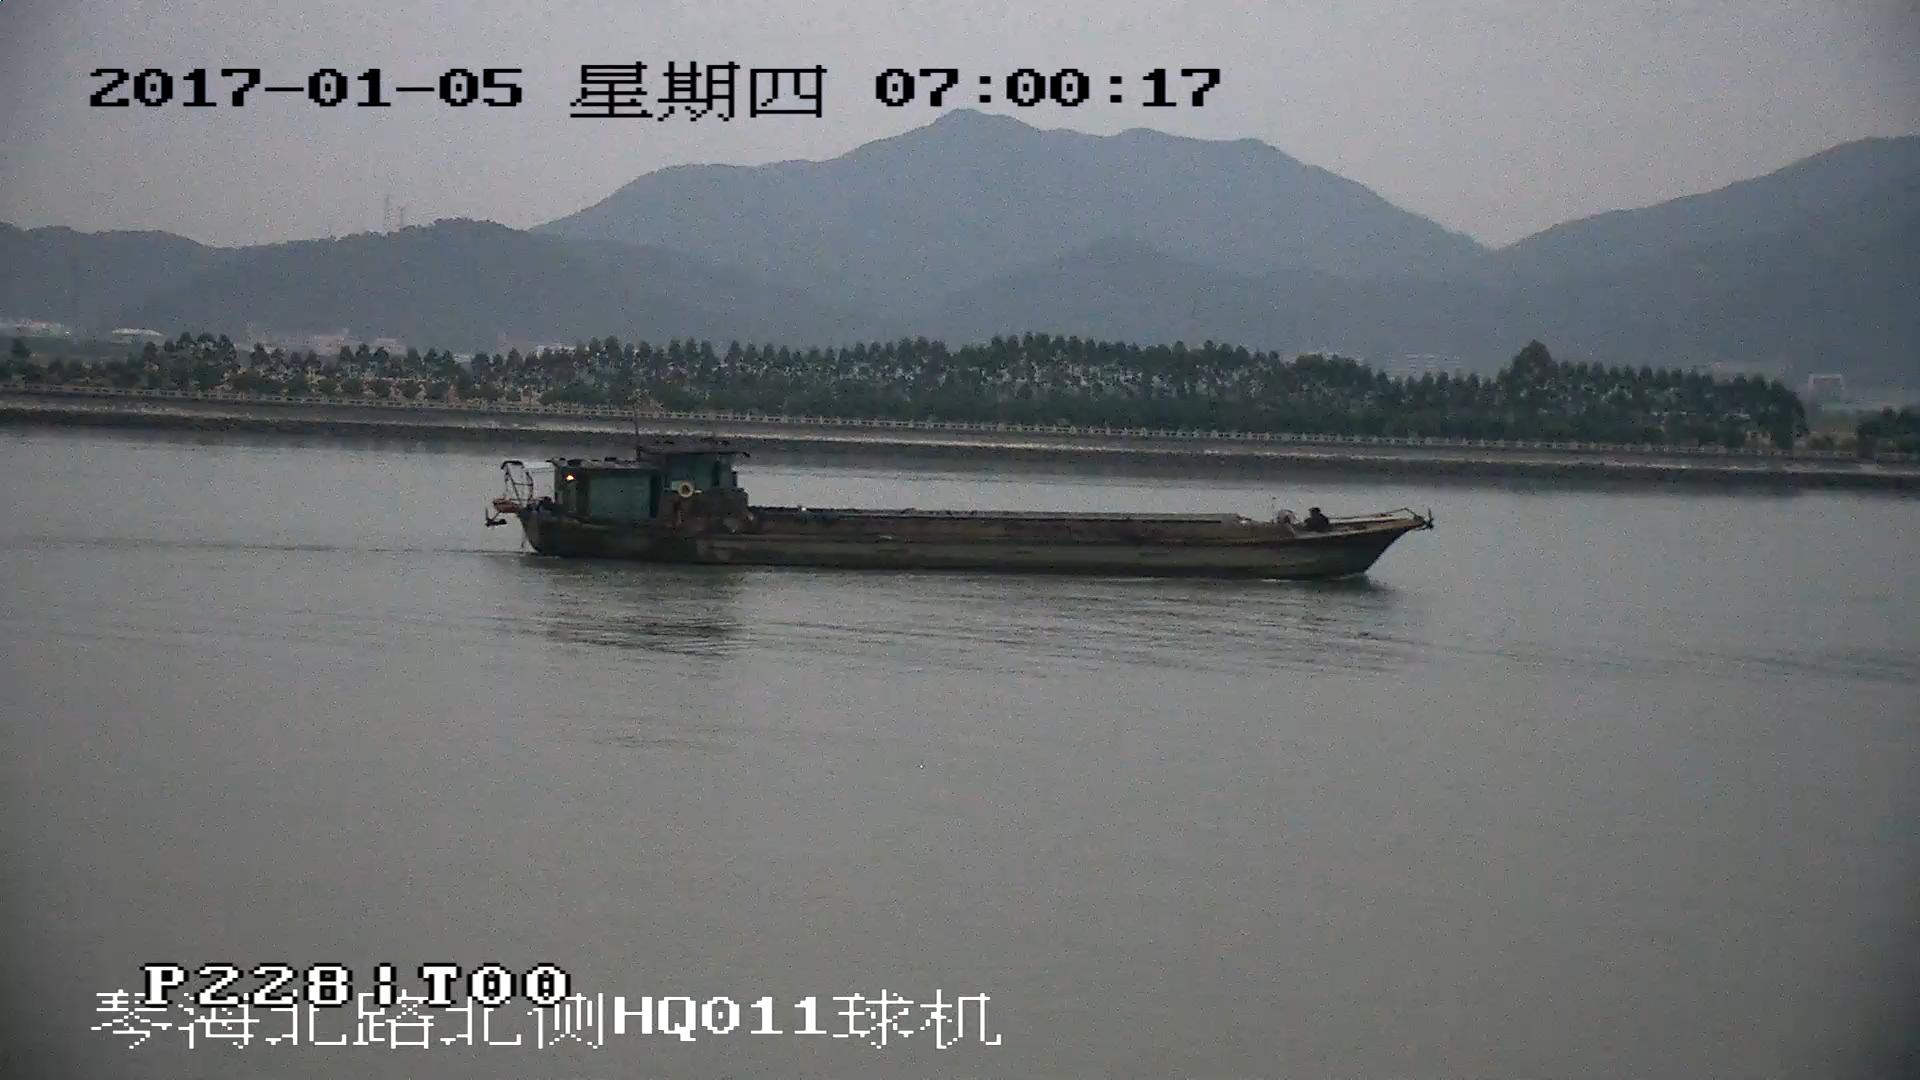bulk cargo carrier: (481, 449, 1434, 576)
